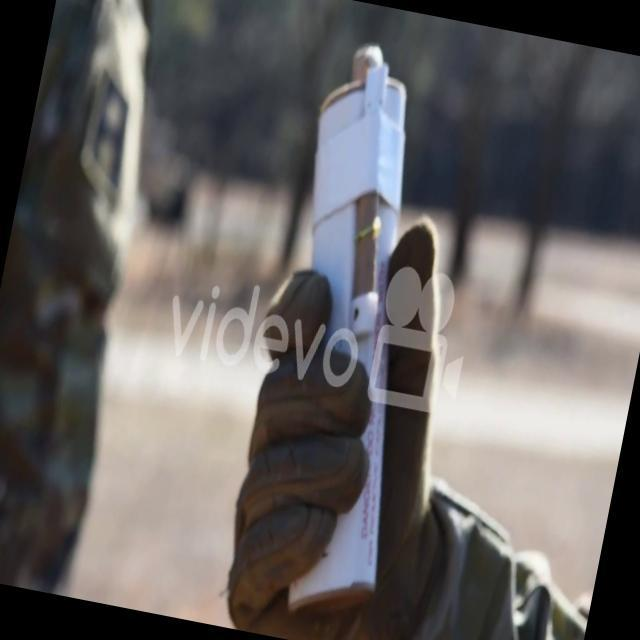grenade: (227, 31, 473, 618)
